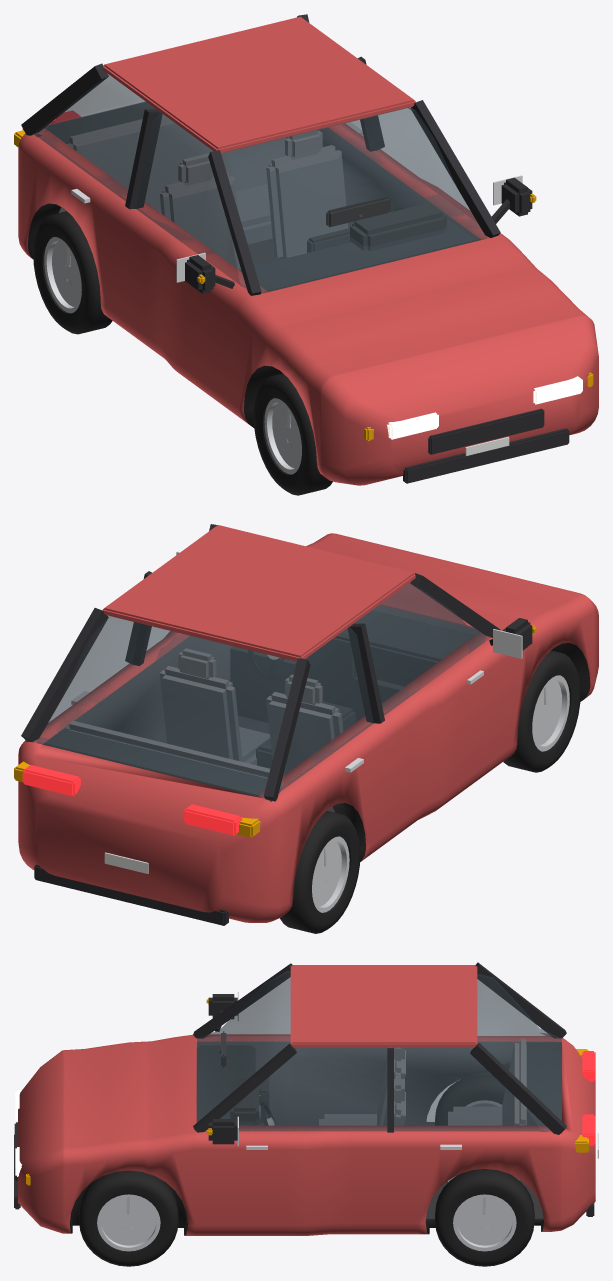
File: suv.glb
3 views of the same model, one above another, from view 1: azimuth 30°, elevation 25°; view 2: azimuth 150°, elevation 25°; view 3: azimuth 270°, elevation 25° (orthographic). The views are drawn at different scales.
Visible parts, largest first — view 1: Body, Glass, Roof, Int_Seats, Int_Dash, Pillars, Trim, Wheel_RR, Wheel_FR, Head_R, Head_L; view 2: Body, Glass, Roof, Int_Seats, Int_Dash, Pillars, Wheel_RR, Wheel_FR, Trim, Tail_L, Tail_R, MirrorGlass_R; view 3: Body, Glass, Roof, Wheel_RL, Wheel_FL, Pillars, Int_Seats, Int_Dash, Wheel_RR, Trim, Int_Carpet.
Boxes of the visible parts, left/top/right/bottom form: Body: left=18, top=123, right=598, bottom=485; Glass: left=33, top=74, right=486, bottom=293; Roof: left=102, top=16, right=415, bottom=153; Int_Seats: left=32, top=102, right=347, bottom=269; Int_Dash: left=239, top=196, right=475, bottom=291; Pillars: left=21, top=14, right=500, bottom=295; Trim: left=71, top=122, right=569, bottom=483; Wheel_RR: left=33, top=211, right=112, bottom=334; Wheel_FR: left=253, top=373, right=332, bottom=495; Head_R: left=387, top=412, right=438, bottom=439; Head_L: left=533, top=376, right=582, bottom=404; Body: left=18, top=533, right=598, bottom=922; Glass: left=28, top=582, right=490, bottom=798; Roof: left=102, top=525, right=415, bottom=661; Int_Seats: left=26, top=648, right=342, bottom=809; Int_Dash: left=230, top=610, right=474, bottom=768; Pillars: left=21, top=524, right=500, bottom=801; Wheel_RR: left=280, top=811, right=360, bottom=933; Wheel_FR: left=503, top=650, right=580, bottom=772; Trim: left=34, top=618, right=532, bottom=925; Tail_L: left=22, top=765, right=80, bottom=796; Tail_R: left=184, top=804, right=242, bottom=835; MirrorGlass_R: left=493, top=629, right=522, bottom=658; Body: left=18, top=1034, right=595, bottom=1235; Glass: left=196, top=970, right=561, bottom=1131; Roof: left=290, top=965, right=477, bottom=1047; Wheel_RL: left=435, top=1169, right=534, bottom=1266; Wheel_FL: left=79, top=1170, right=178, bottom=1266; Pillars: left=193, top=962, right=566, bottom=1134; Int_Seats: left=319, top=1039, right=561, bottom=1182; Int_Dash: left=197, top=1031, right=274, bottom=1125; Wheel_RR: left=435, top=1075, right=505, bottom=1125; Trim: left=14, top=994, right=598, bottom=1216; Int_Carpet: left=426, top=1122, right=543, bottom=1219.
Size of the model in its own units: 2.4 by 1.74 by 4.36.
